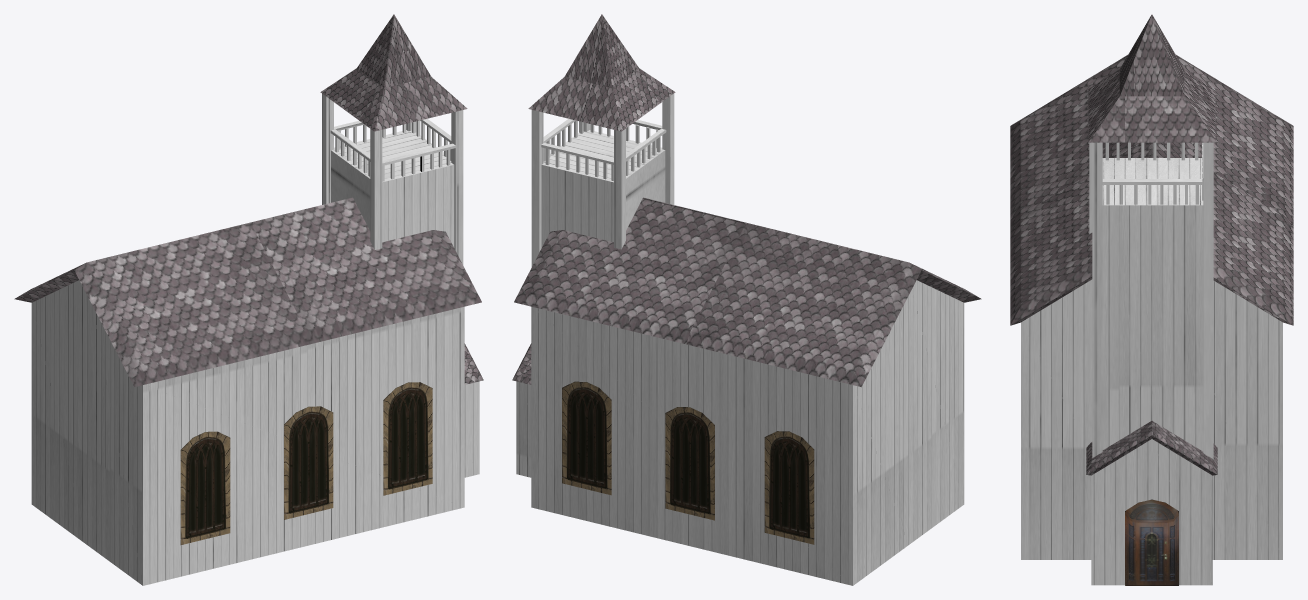
The model's file is Church01.fbx.
The picture shows the model from 3 angles, left to right: view 1: azimuth 30°, elevation 25°; view 2: azimuth 150°, elevation 25°; view 3: azimuth 270°, elevation 25°; orthographic projection. The views are drawn at different scales.
Visible parts, largest first — view 1: Cube.006; view 2: Cube.006; view 3: Cube.006.
Part boxes in pixels (x1=…): Cube.006: x1=14, y1=14, x2=483, y2=585; Cube.006: x1=512, y1=14, x2=981, y2=585; Cube.006: x1=1010, y1=14, x2=1293, y2=585.
Size of the model in its own units: 799 by 916 by 436.
1 material, 1 textured.
